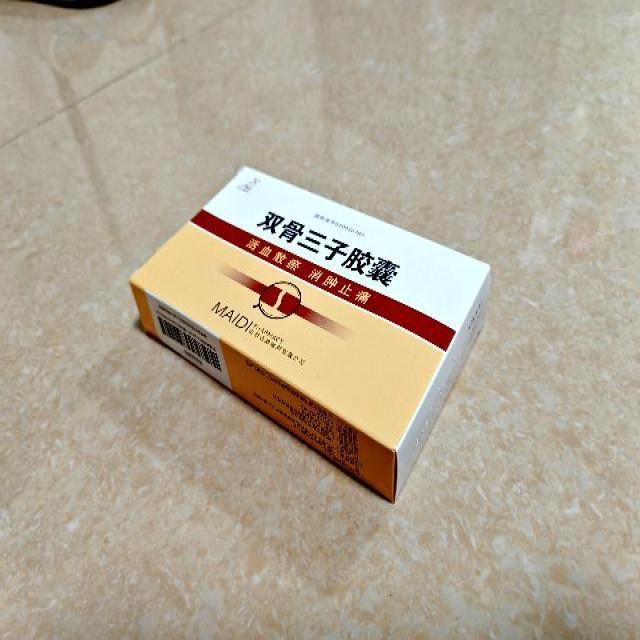box: (130, 161, 490, 503)
